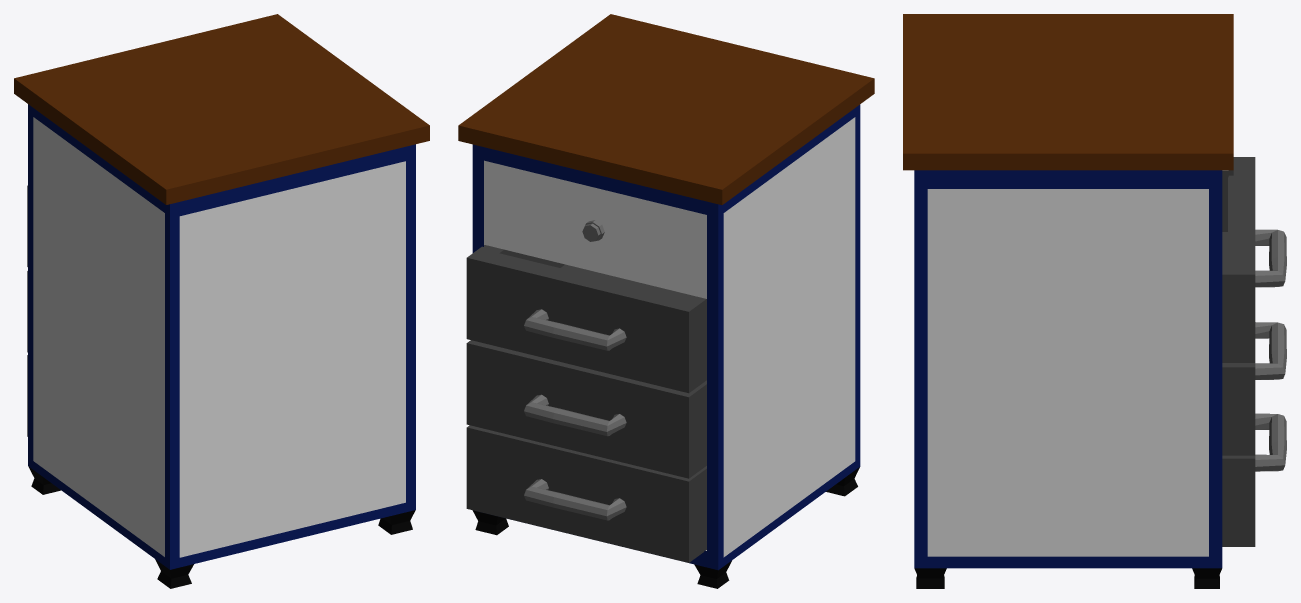
The model's file is Drawer_B.fbx.
3 renders of one model, left to right at view 1: azimuth 30°, elevation 25°; view 2: azimuth 150°, elevation 25°; view 3: azimuth 270°, elevation 25°, orthographic. The views are drawn at different scales.
Parts seen in each view (by area): view 1: Drawer.001; view 2: Drawer.001, Draw.001; view 3: Drawer.001, Draw.001.
Boxes of the visible parts, left/top/right/bottom form: Drawer.001: left=14, top=14, right=429, bottom=588; Drawer.001: left=458, top=14, right=874, bottom=588; Draw.001: left=466, top=245, right=706, bottom=562; Drawer.001: left=903, top=14, right=1233, bottom=588; Draw.001: left=1222, top=157, right=1286, bottom=546.
Size of the model in its own units: 107 by 125 by 158.
